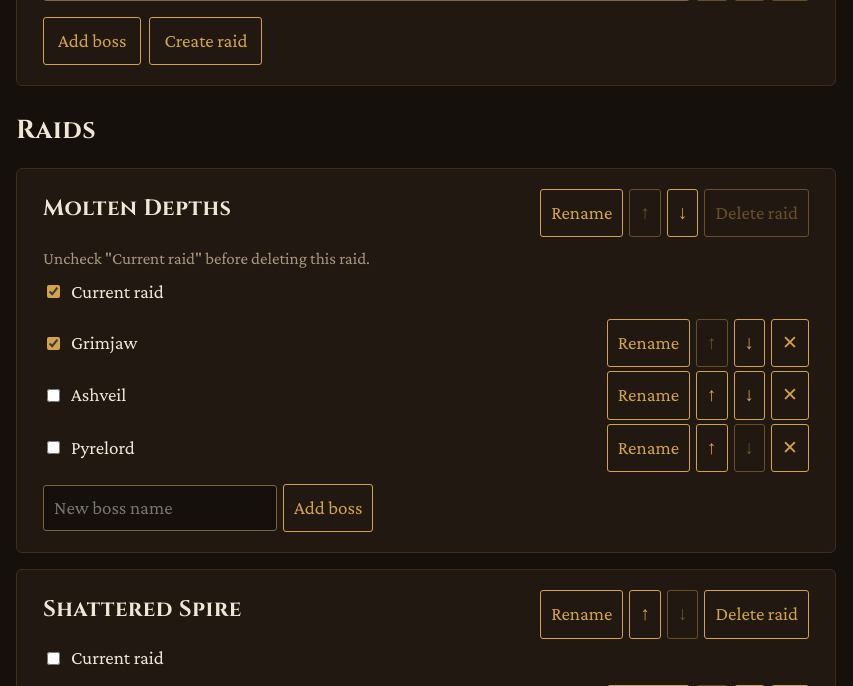
Scenario: OfficerRaidProgress › should show an error message when a toggle is rejected
The image size is (853, 686).
(page scrolled)
Click the checkbox named "Ashveil killed".
click(54, 396)  # box [47, 389, 60, 402]
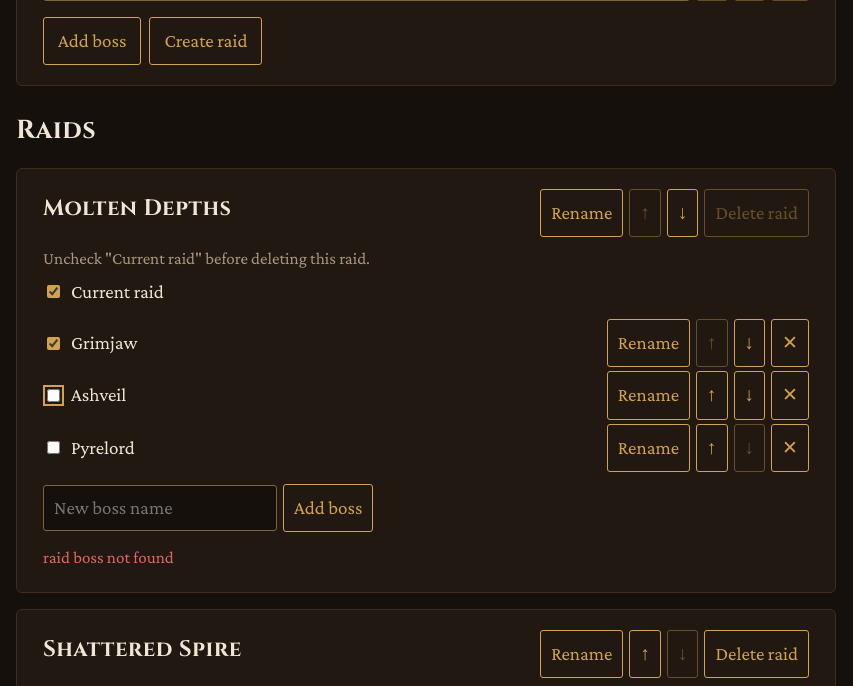
Expected: the message reads "raid boss not found", [43, 548, 174, 568]
